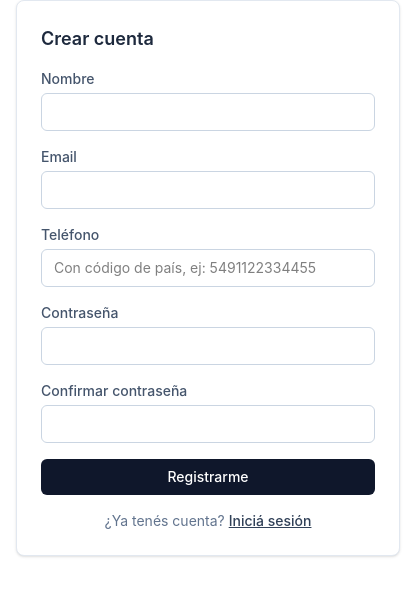
Test case: Register › rechaza un email ya registrado
In the field labelled "Nombre": (208, 112) x1=41 y1=93 x2=375 y2=131, type "Test"
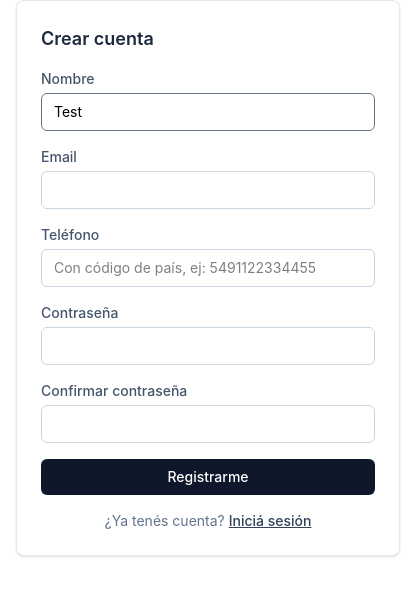
In the field labelled "Email": (208, 190) x1=41 y1=171 x2=375 y2=209, type "juan@example.com"
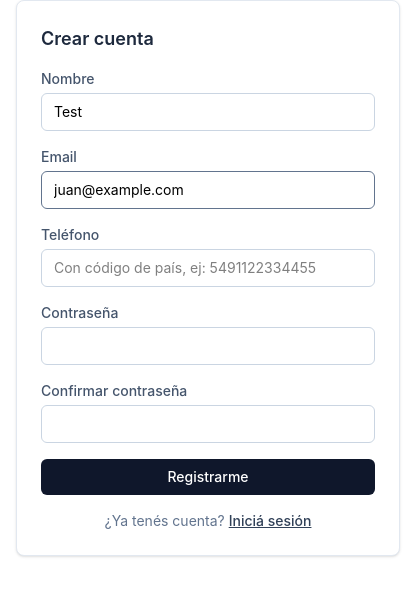
In the field labelled "Teléfono": (208, 268) x1=41 y1=249 x2=375 y2=287, type "5491122334455"
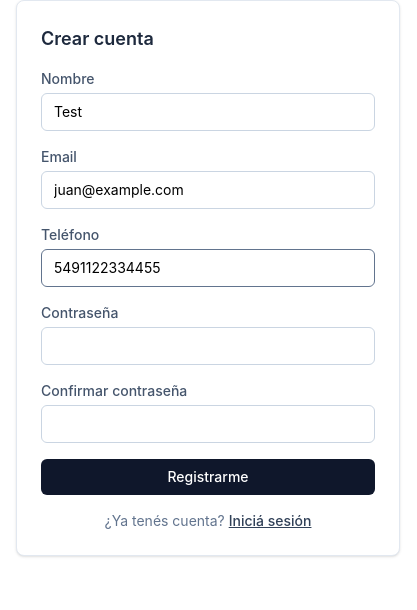
In the password field labelled "Contraseña": (208, 346) x1=41 y1=327 x2=375 y2=365, type "1234"
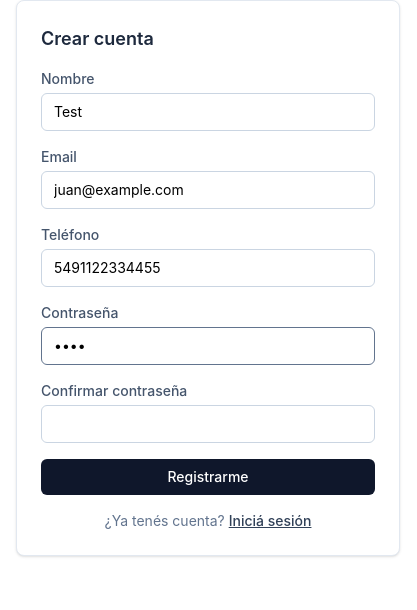
In the password field labelled "Confirmar contraseña": (208, 424) x1=41 y1=405 x2=375 y2=443, type "1234"
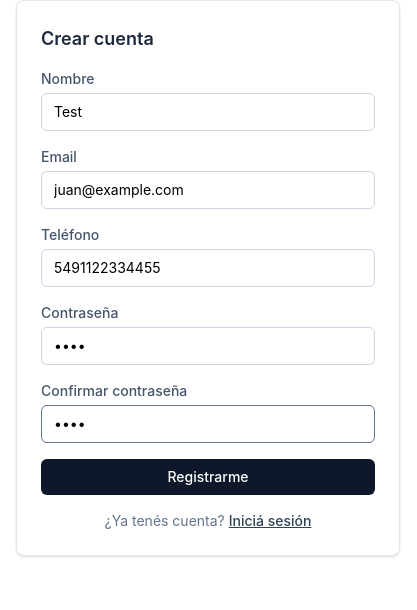
Click the button "Registrarme": (208, 477) x1=41 y1=459 x2=375 y2=495
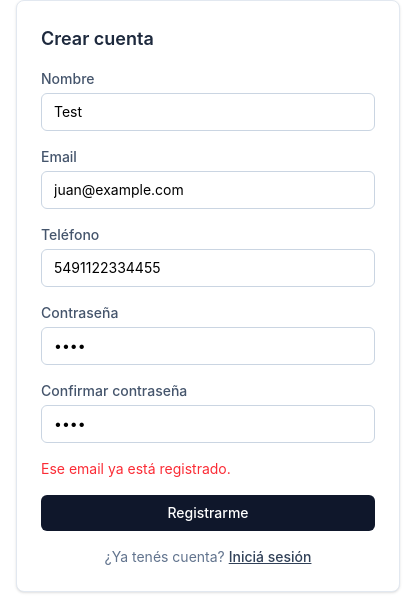
Result: the text "Ese email ya está registrado." is shown at x1=41 y1=460 x2=231 y2=477
